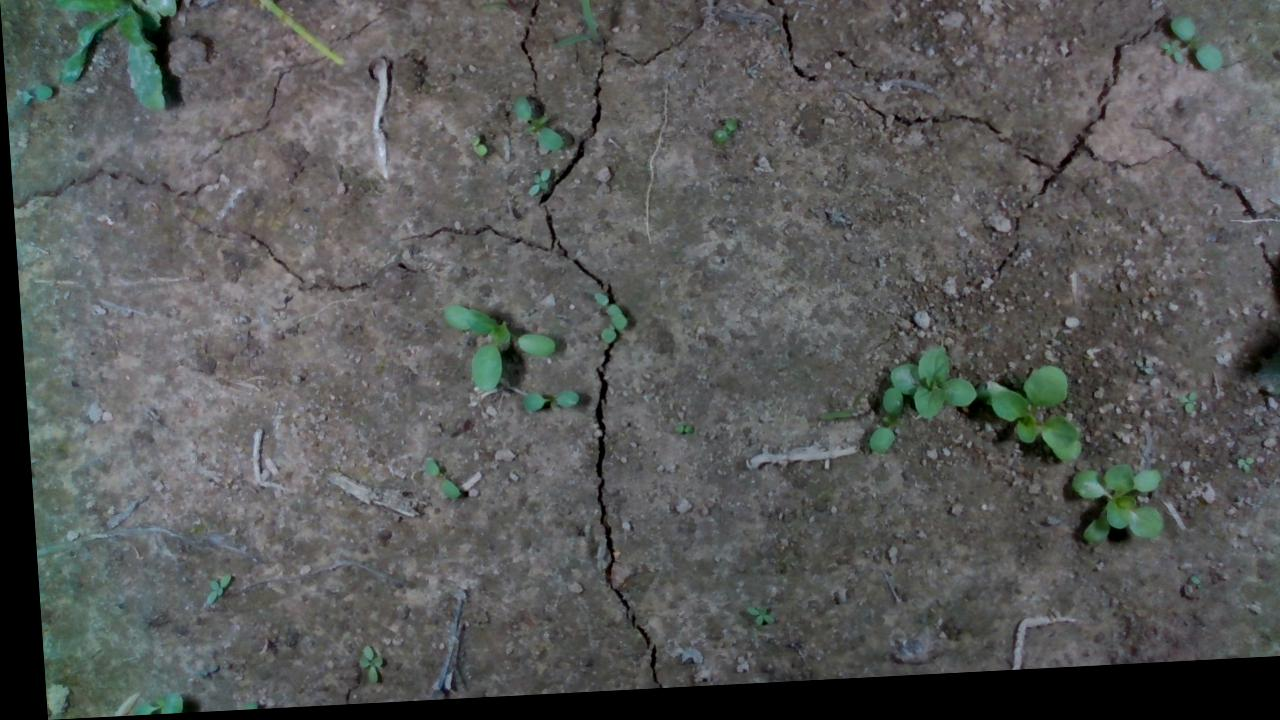weed: (506, 98, 563, 158), (514, 387, 602, 418), (407, 458, 451, 514), (521, 167, 557, 214), (700, 122, 743, 150), (1220, 460, 1257, 492), (188, 571, 226, 599), (345, 646, 375, 672), (1122, 360, 1149, 386), (658, 424, 690, 442), (1166, 395, 1189, 420), (465, 138, 490, 160)
